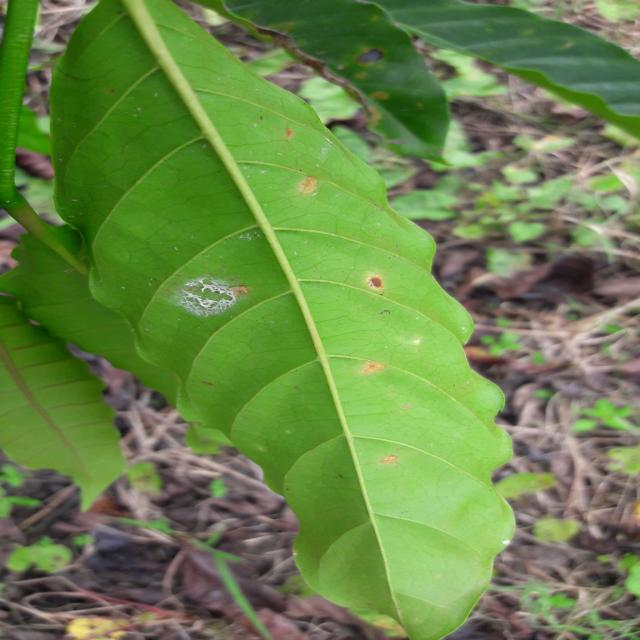Enfermedad-Roya: (22, 0, 518, 640)
